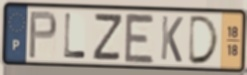D: (186, 14, 221, 66)
E: (123, 11, 156, 66)
K: (159, 13, 185, 64)
L: (62, 12, 87, 60)
P: (27, 10, 59, 61)
Z: (91, 13, 125, 63)
